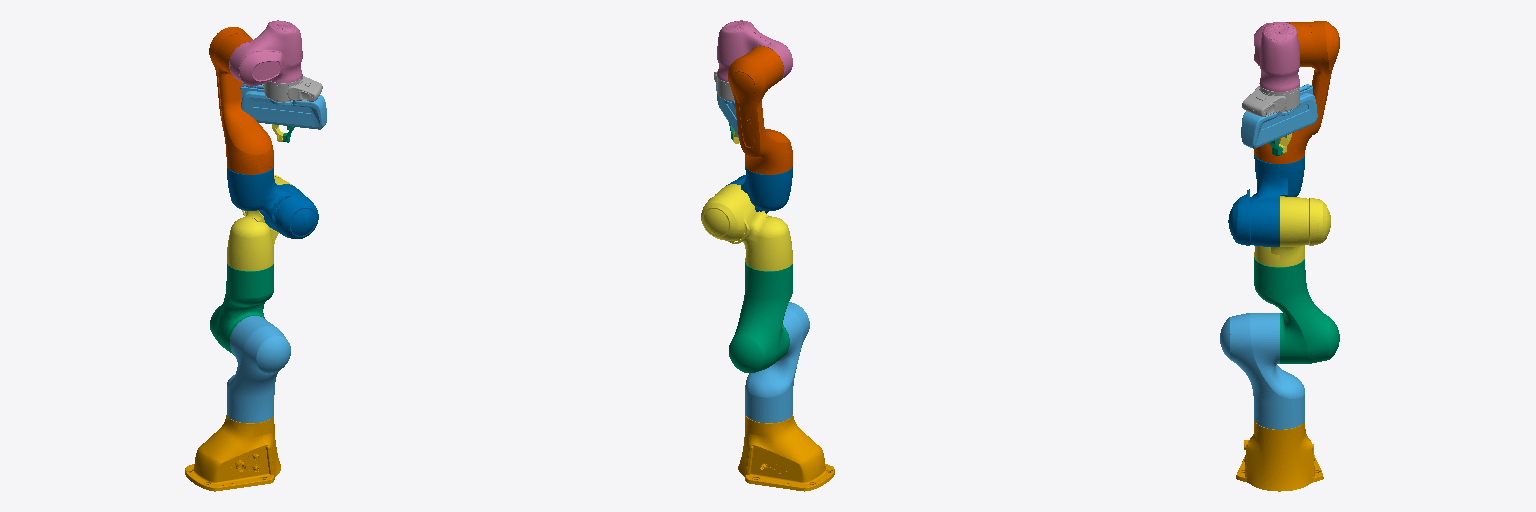
robot.urdf — panda:
<?xml version="1.0" ?>
<!-- =================================================================================== -->
<!-- |    This document was autogenerated by xacro from /opt/ros/kinetic/share/moveit_resources/panda_description/urdf/panda.urdf | -->
<!-- |    EDITING THIS FILE BY HAND IS NOT RECOMMENDED                                 | -->
<!-- =================================================================================== -->
<robot name="panda" xmlns:xacro="http://www.ros.org/wiki/xacro">
    <link name="panda_link0">
        <visual>
            <geometry>
                <mesh filename="meshes/visual/link0.stl" />
            </geometry>
        </visual>
        <collision>
            <geometry>
                <mesh filename="meshes/visual/link0.stl" />
            </geometry>
        </collision>
    </link>
    <link name="panda_link1">
        <visual>
            <geometry>
                <mesh filename="meshes/visual/link1.stl" />
            </geometry>
        </visual>
        <collision>
            <geometry>
                <mesh filename="meshes/visual/link1.stl" />
            </geometry>
        </collision>
    </link>
    <joint name="panda_joint1" type="revolute">
        <safety_controller k_position="100.0" k_velocity="40.0" soft_lower_limit="-2.8973" soft_upper_limit="2.8973" />
        <origin rpy="0 0 0" xyz="0 0 0.333" />
        <parent link="panda_link0" />
        <child link="panda_link1" />
        <axis xyz="0 0 1" />
        <limit effort="87" lower="-2.9671" upper="2.9671" velocity="2.3925" />
    </joint>
    <link name="panda_link2">
        <visual>
            <geometry>
                <mesh filename="meshes/visual/link2.stl" />
            </geometry>
        </visual>
        <collision>
            <geometry>
                <mesh filename="meshes/visual/link2.stl" />
            </geometry>
        </collision>
    </link>
    <joint name="panda_joint2" type="revolute">
        <safety_controller k_position="100.0" k_velocity="40.0" soft_lower_limit="-1.7628" soft_upper_limit="1.7628" />
        <origin rpy="-1.57079632679 0 0" xyz="0 0 0" />
        <parent link="panda_link1" />
        <child link="panda_link2" />
        <axis xyz="0 0 1" />
        <limit effort="87" lower="-1.8326" upper="1.8326" velocity="2.3925" />
    </joint>
    <link name="panda_link3">
        <visual>
            <geometry>
                <mesh filename="meshes/visual/link3.stl" />
            </geometry>
        </visual>
        <collision>
            <geometry>
                <mesh filename="meshes/visual/link3.stl" />
            </geometry>
        </collision>
    </link>
    <joint name="panda_joint3" type="revolute">
        <safety_controller k_position="100.0" k_velocity="40.0" soft_lower_limit="-2.8973" soft_upper_limit="2.8973" />
        <origin rpy="1.57079632679 0 0" xyz="0 -0.316 0" />
        <parent link="panda_link2" />
        <child link="panda_link3" />
        <axis xyz="0 0 1" />
        <limit effort="87" lower="-2.9671" upper="2.9671" velocity="2.3925" />
    </joint>
    <link name="panda_link4">
        <visual>
            <geometry>
                <mesh filename="meshes/visual/link4.stl" />
            </geometry>
        </visual>
        <collision>
            <geometry>
                <mesh filename="meshes/visual/link4.stl" />
            </geometry>
        </collision>
    </link>
    <joint name="panda_joint4" type="revolute">
        <safety_controller k_position="100.0" k_velocity="40.0" soft_lower_limit="-3.0718" soft_upper_limit="0.0175" />
        <origin rpy="1.57079632679 0 0" xyz="0.0825 0 0" />
        <parent link="panda_link3" />
        <child link="panda_link4" />
        <axis xyz="0 0 1" />
        <limit effort="87" lower="-3.1416" upper="0.0873" velocity="2.3925" />
    </joint>
    <link name="panda_link5">
        <visual>
            <geometry>
                <mesh filename="meshes/visual/link5.stl" />
            </geometry>
        </visual>
        <collision>
            <geometry>
                <mesh filename="meshes/visual/link5.stl" />
            </geometry>
        </collision>
    </link>
    <joint name="panda_joint5" type="revolute">
        <safety_controller k_position="100.0" k_velocity="40.0" soft_lower_limit="-2.8973" soft_upper_limit="2.8973" />
        <origin rpy="-1.57079632679 0 0" xyz="-0.0825 0.384 0" />
        <parent link="panda_link4" />
        <child link="panda_link5" />
        <axis xyz="0 0 1" />
        <limit effort="12" lower="-2.9671" upper="2.9671" velocity="2.8710" />
    </joint>
    <link name="panda_link6">
        <visual>
            <geometry>
                <mesh filename="meshes/visual/link6.stl" />
            </geometry>
        </visual>
        <collision>
            <geometry>
                <mesh filename="meshes/visual/link6.stl" />
            </geometry>
        </collision>
    </link>
    <joint name="panda_joint6" type="revolute">
        <safety_controller k_position="100.0" k_velocity="40.0" soft_lower_limit="-0.0175" soft_upper_limit="3.7525" />
        <origin rpy="1.57079632679 0 0" xyz="0 0 0" />
        <parent link="panda_link5" />
        <child link="panda_link6" />
        <axis xyz="0 0 1" />
        <limit effort="12" lower="-0.0873" upper="3.8223" velocity="2.8710" />
    </joint>
    <link name="panda_link7">
        <visual>
            <geometry>
                <mesh filename="meshes/visual/link7.stl" />
            </geometry>
        </visual>
        <collision>
            <geometry>
                <mesh filename="meshes/visual/link7.stl" />
            </geometry>
        </collision>
    </link>
    <joint name="panda_joint7" type="revolute">
        <safety_controller k_position="100.0" k_velocity="40.0" soft_lower_limit="-2.8973" soft_upper_limit="2.8973" />
        <origin rpy="1.57079632679 0 0" xyz="0.088 0 0" />
        <parent link="panda_link6" />
        <child link="panda_link7" />
        <axis xyz="0 0 1" />
        <limit effort="12" lower="-2.9671" upper="2.9671" velocity="2.8710" />
    </joint>
    <link name="panda_link8" />
    <joint name="panda_joint8" type="fixed">
        <origin rpy="0 0 0" xyz="0 0 0.107" />
        <parent link="panda_link7" />
        <child link="panda_link8" />
        <axis xyz="0 0 0" />
    </joint>
    <joint name="panda_hand_joint" type="fixed">
        <parent link="panda_link8" />
        <child link="panda_hand" />
        <origin rpy="0 0 -0.785398163397" xyz="0 0 0" />
    </joint>
    <link name="panda_hand">
        <visual>
            <geometry>
                <mesh filename="meshes/visual/hand.stl" />
            </geometry>
        </visual>
        <collision>
            <geometry>
                <mesh filename="meshes/visual/hand.stl" />
            </geometry>
        </collision>
    </link>
    <link name="panda_leftfinger">
        <visual>
            <geometry>
                <mesh filename="meshes/visual/finger.stl" />
            </geometry>
        </visual>
        <collision>
            <geometry>
                <mesh filename="meshes/visual/finger.stl" />
            </geometry>
        </collision>
    </link>
    <link name="panda_rightfinger">
        <visual>
            <origin rpy="0 0 3.14159265359" xyz="0 0 0" />
            <geometry>
                <mesh filename="meshes/visual/finger.stl" />
            </geometry>
        </visual>
        <collision>
            <origin rpy="0 0 3.14159265359" xyz="0 0 0" />
            <geometry>
                <mesh filename="meshes/visual/finger.stl" />
            </geometry>
        </collision>
    </link>
    <link name="eef">
    </link>
    <joint name="panda_finger_joint1" type="prismatic">
        <parent link="panda_hand" />
        <child link="panda_leftfinger" />
        <origin rpy="0 0 0" xyz="0 0 0.0584" />
        <axis xyz="0 1 0" />
        <limit effort="20" lower="0.0" upper="0.04" velocity="0.2" />
    </joint>
    <joint name="panda_finger_joint2" type="prismatic">
        <parent link="panda_hand" />
        <child link="panda_rightfinger" />
        <origin rpy="0 0 0" xyz="0 0 0.0584" />
        <axis xyz="0 -1 0" />
        <limit effort="20" lower="0.0" upper="0.04" velocity="0.85" />
        <mimic joint="panda_finger_joint1" />
    </joint>
    <joint name="eef_joint" type="fixed">
        <parent link="panda_hand" />
        <child link="eef" />
        <origin rpy="0 0 0" xyz="0 0 0.0784" />
        <axis xyz="0 0 0" />
    </joint>
<link name="world"/>
  <joint name="world_joint" type="fixed">
    <parent link="world"/>
    <child link="panda_link0"/>
    <origin rpy="0.0 0.0 0.0" xyz="1.0 1.0 0.85"/>
  </joint>
</robot>

--- What the picture shows (computed from the rendered views, not written in the file) ---
Views: 3 orthographic renders of the robot side by side, from view 1: azimuth 30°, elevation 25°; view 2: azimuth 150°, elevation 25°; view 3: azimuth 270°, elevation 25°.
Model panda with 14 links and 13 joints (7 revolute, 2 prismatic, 4 fixed), rooted at world, posed all joints at 0.
Visible links, largest first — view 1: panda_link0, panda_link1, panda_link5, panda_link4, panda_link6, panda_link2, panda_link3, panda_hand, panda_link7; view 2: panda_link0, panda_link5, panda_link2, panda_link3, panda_link1, panda_link6, panda_link4; view 3: panda_link1, panda_link2, panda_link0, panda_link4, panda_link5, panda_link3, panda_link6, panda_hand, panda_link7.
Boxes of the visible links, x1,y1,x2,y2 form: panda_link0: (185,415,280,491); panda_link1: (227,316,290,422); panda_link5: (209,27,273,174); panda_link4: (227,167,318,238); panda_link6: (230,20,302,85); panda_link2: (210,264,273,355); panda_link3: (227,175,291,270); panda_hand: (240,84,326,129); panda_link7: (262,76,322,102); panda_link0: (738,414,834,491); panda_link5: (728,46,792,174); panda_link2: (729,262,792,373); panda_link3: (701,184,792,270); panda_link1: (745,302,809,422); panda_link6: (717,20,792,81); panda_link4: (726,165,792,213); panda_link1: (1220,313,1304,429); panda_link2: (1254,257,1339,363); panda_link0: (1236,420,1323,491); panda_link4: (1228,154,1304,246); panda_link5: (1254,21,1339,163); panda_link3: (1254,196,1330,266); panda_link6: (1254,22,1299,91); panda_hand: (1241,84,1317,148); panda_link7: (1242,83,1299,116).
Size in the robot's own frame: 0.3253 by 0.2593 by 1.11 metres.
11 mesh visuals loaded from 10 distinct referenced files (10 binary STL).